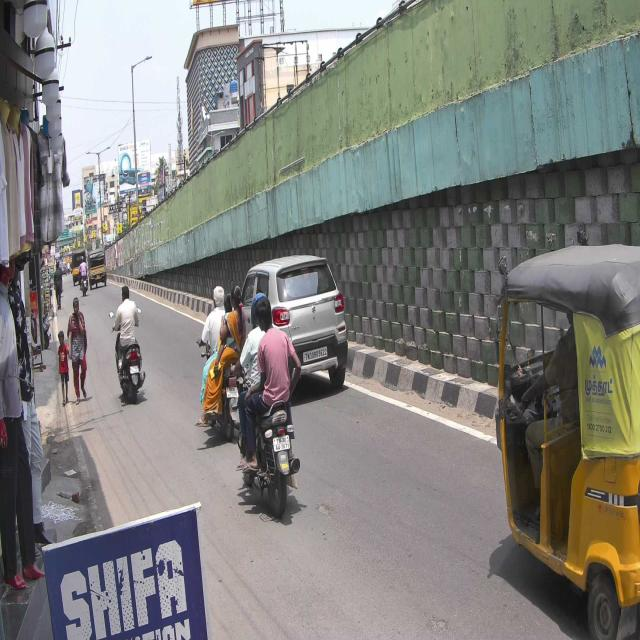double_rider: (246, 294, 302, 523)
single_rider: (112, 285, 146, 404)
triple_rider: (197, 286, 243, 440)
